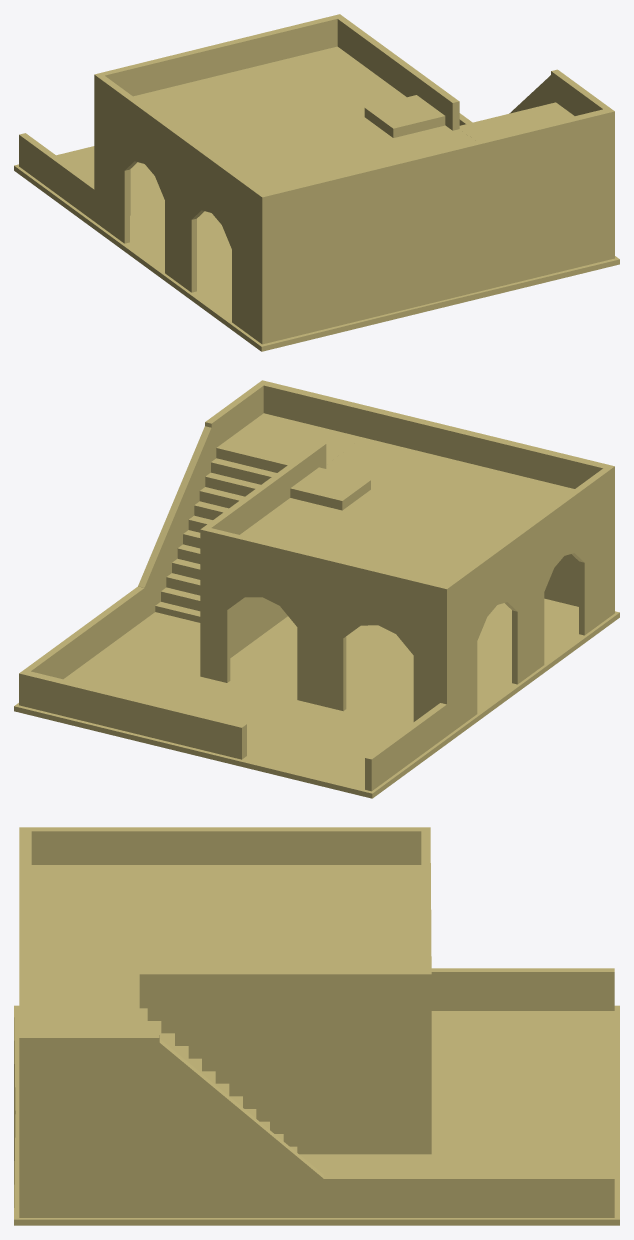
Rendered from DesertBuilding8.fbx.
3 views of the same model, one above another, from view 1: azimuth 30°, elevation 25°; view 2: azimuth 150°, elevation 25°; view 3: azimuth 270°, elevation 25° (orthographic). The views are drawn at different scales.
Visible parts, largest first — view 1: Cube.015; view 2: Cube.015; view 3: Cube.015.
Boxes of the visible parts, x1=… form: Cube.015: x1=14, y1=14, x2=619, y2=351; Cube.015: x1=14, y1=380, x2=619, y2=798; Cube.015: x1=14, y1=827, x2=619, y2=1225.
Size of the model in its own units: 1100 by 446 by 1316.
